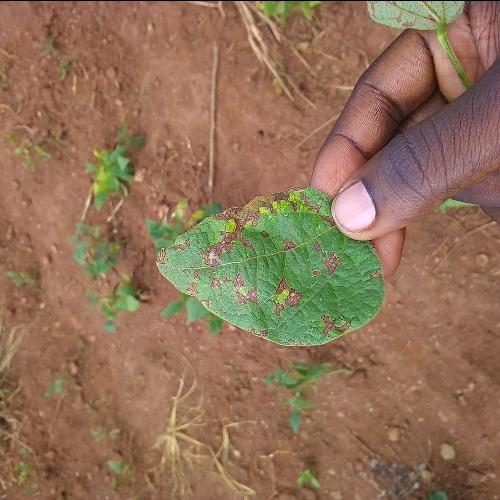mozaik: (167, 154, 334, 355)
